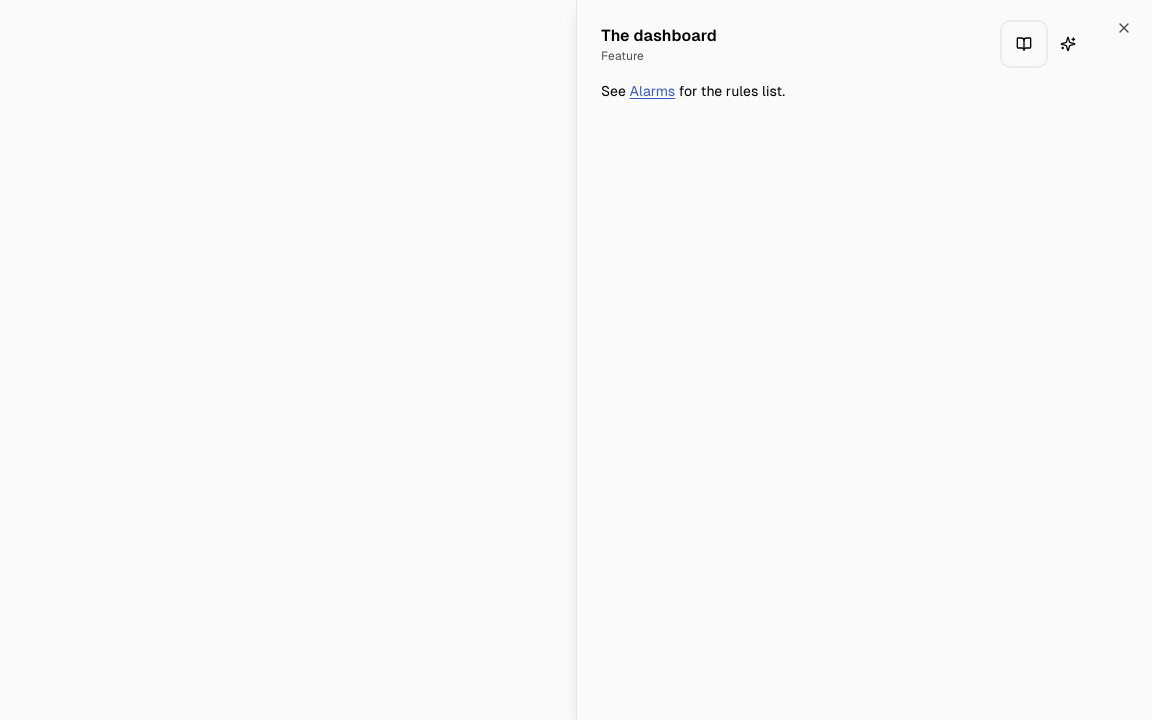
HelpSheet › a page link pushes history, revealing Back, and Back returns to the previous page
Check: the text "See Alarms for the rules list." is shown, box 601,83 -> 785,99
What coordinates should you click on to do the following:
click the link "Alarms"
I would click on:
 (652, 91)
Its box is 630,83 -> 675,99.
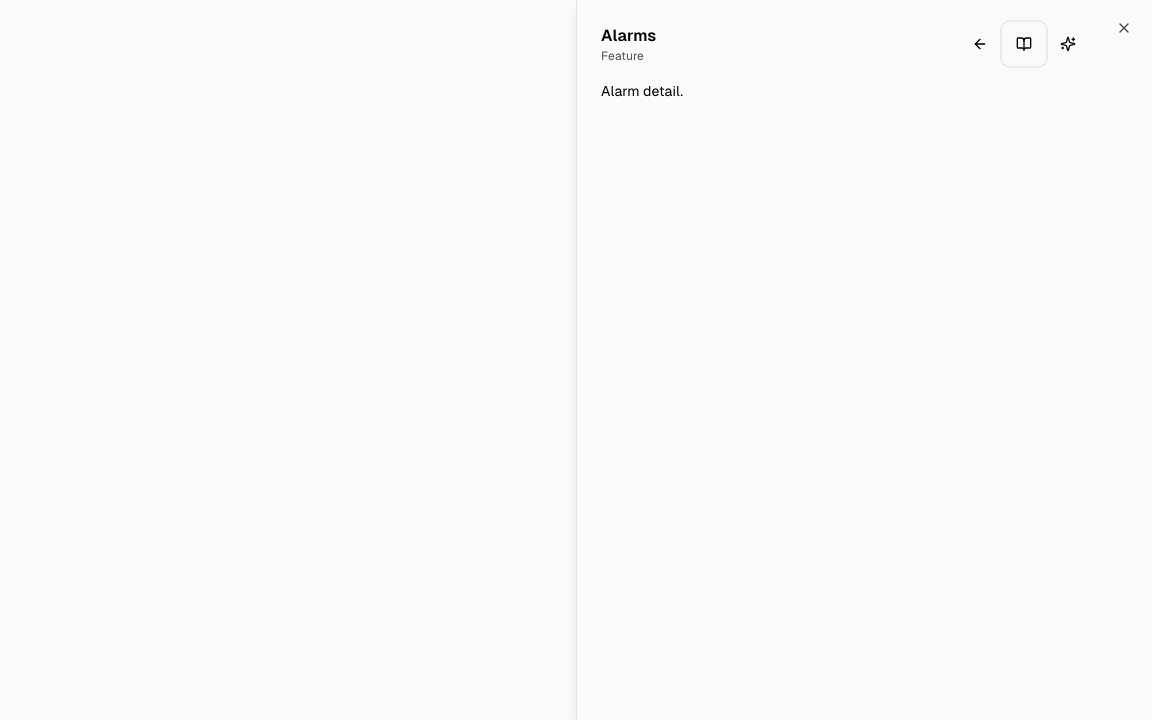
Check: the heading "Alarms" is shown, box 601,24 -> 656,48
Check: the button named "Back" is shown
What coordinates should you click on to do the following:
click the button named "Back"
I would click on:
 (980, 44)
Its box is 960,24 -> 1000,64.
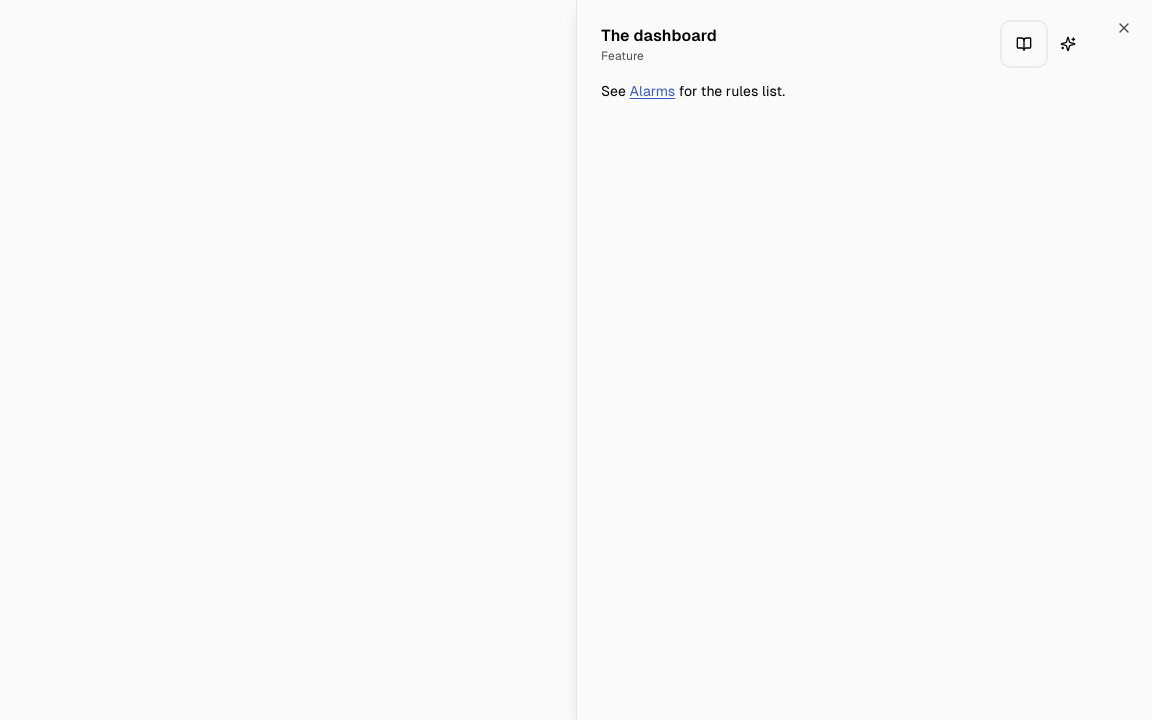
Check: the heading "The dashboard" is shown, box 601,24 -> 717,48
Check: the button "Back" is gone
